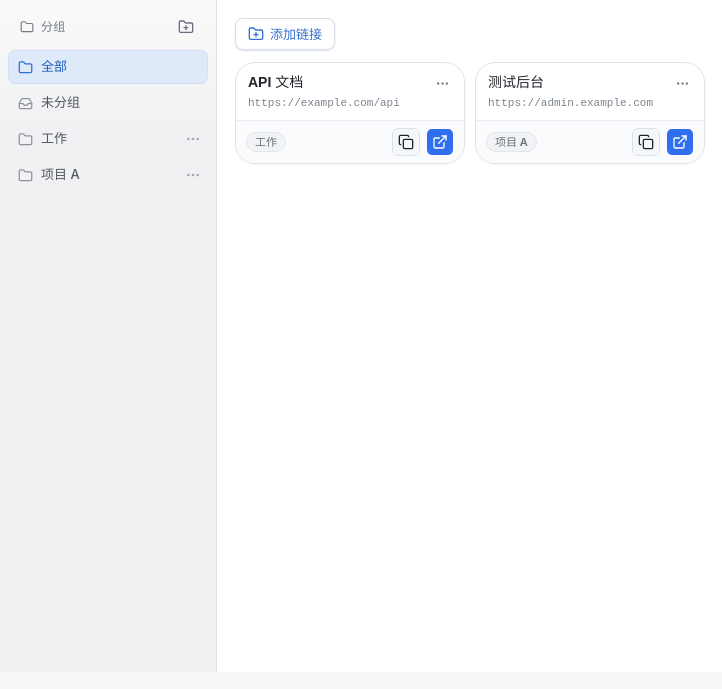
Test case: links static interactions › exposes each link card's group and keeps edit and delete actions accessible
Expected: the icon "工作" is shown, [246,132,286,152]
Step 1. Click the button named "管理链接 API 文档" → [442, 83], box [430,71,454,95]
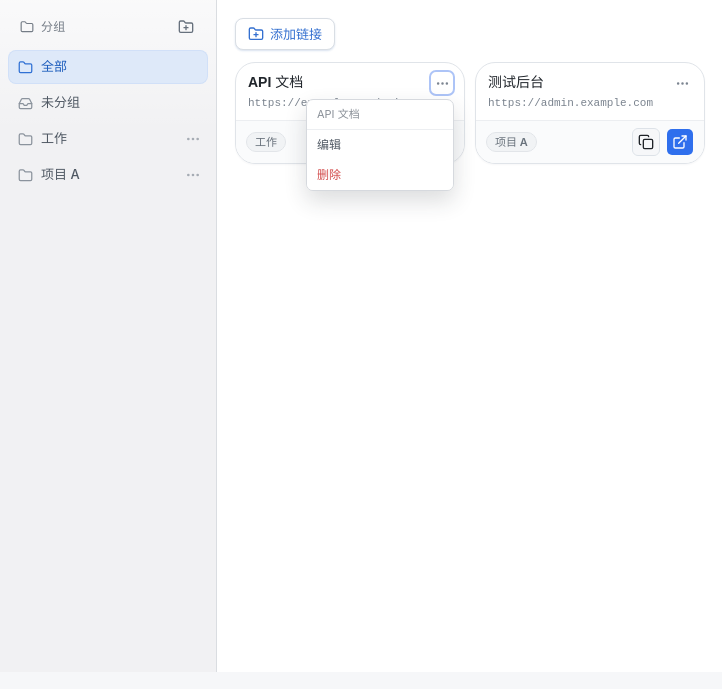
Expected: the button "编辑" is shown, [307,130,453,160]
Expected: the button "删除" is shown, [307,160,453,190]
